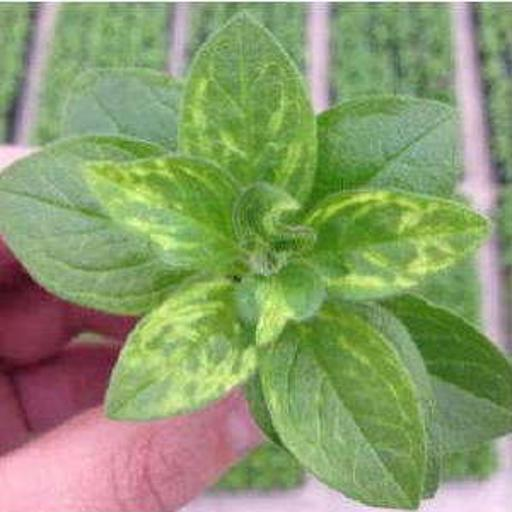Mosaic Virus: (92, 25, 488, 400)
